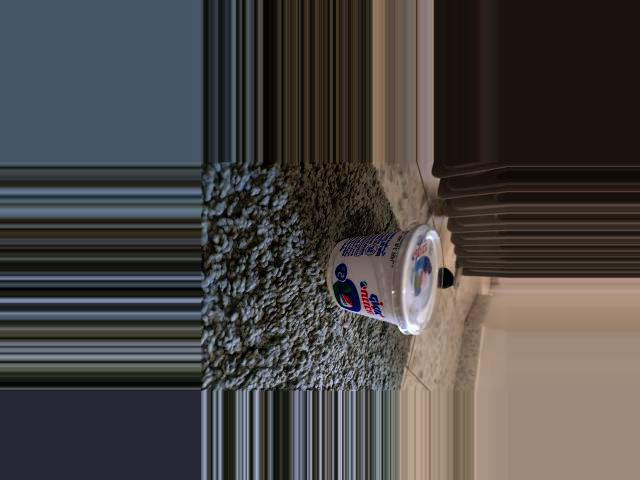cotage: (323, 230, 444, 328)
